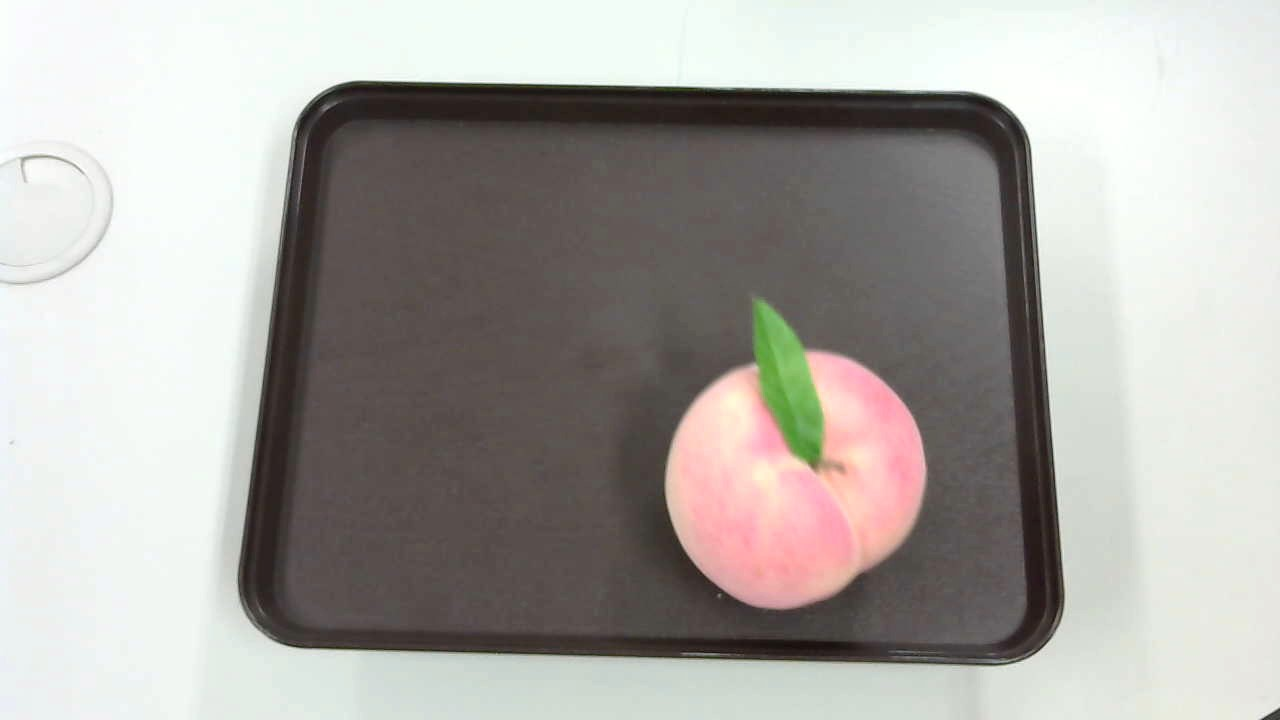peach: (659, 293, 932, 620)
